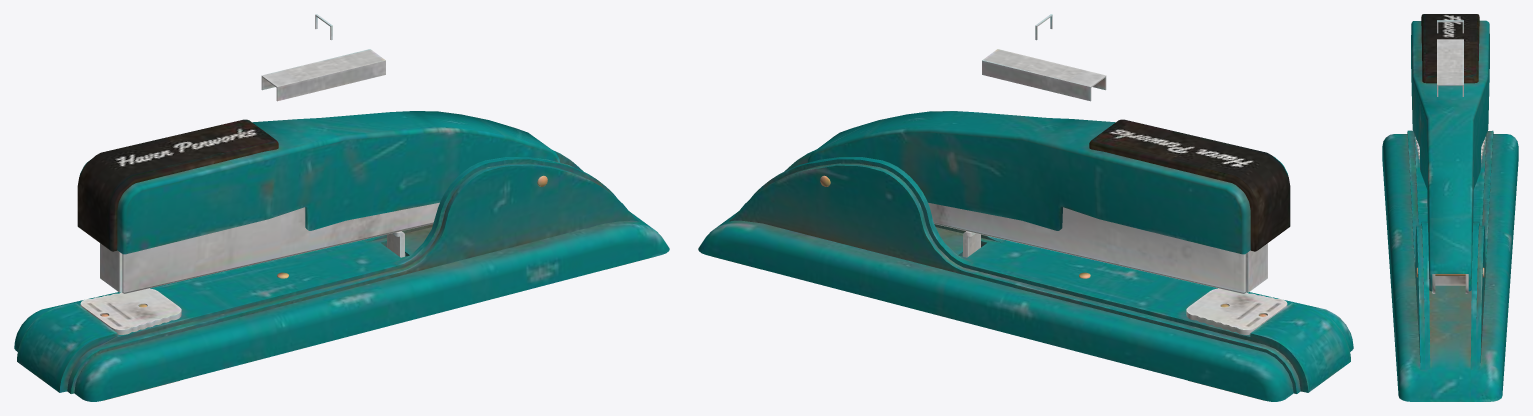
Rendered from stapler.glb.
The picture shows the model from 3 angles, left to right: view 1: azimuth 30°, elevation 25°; view 2: azimuth 150°, elevation 25°; view 3: azimuth 270°, elevation 25°; orthographic projection. The views are drawn at different scales.
Visible parts, largest first — view 1: vintage_stapler_top; view 2: vintage_stapler_top; view 3: vintage_stapler_top.
Part boxes in pixels (bbox=[...]): vintage_stapler_top: bbox=[14, 14, 669, 401]; vintage_stapler_top: bbox=[698, 14, 1353, 401]; vintage_stapler_top: bbox=[1382, 14, 1518, 401].
Bounding box in the file's own units: 0.2085 × 0.0953 × 0.0474.
1 material, 1 textured.
